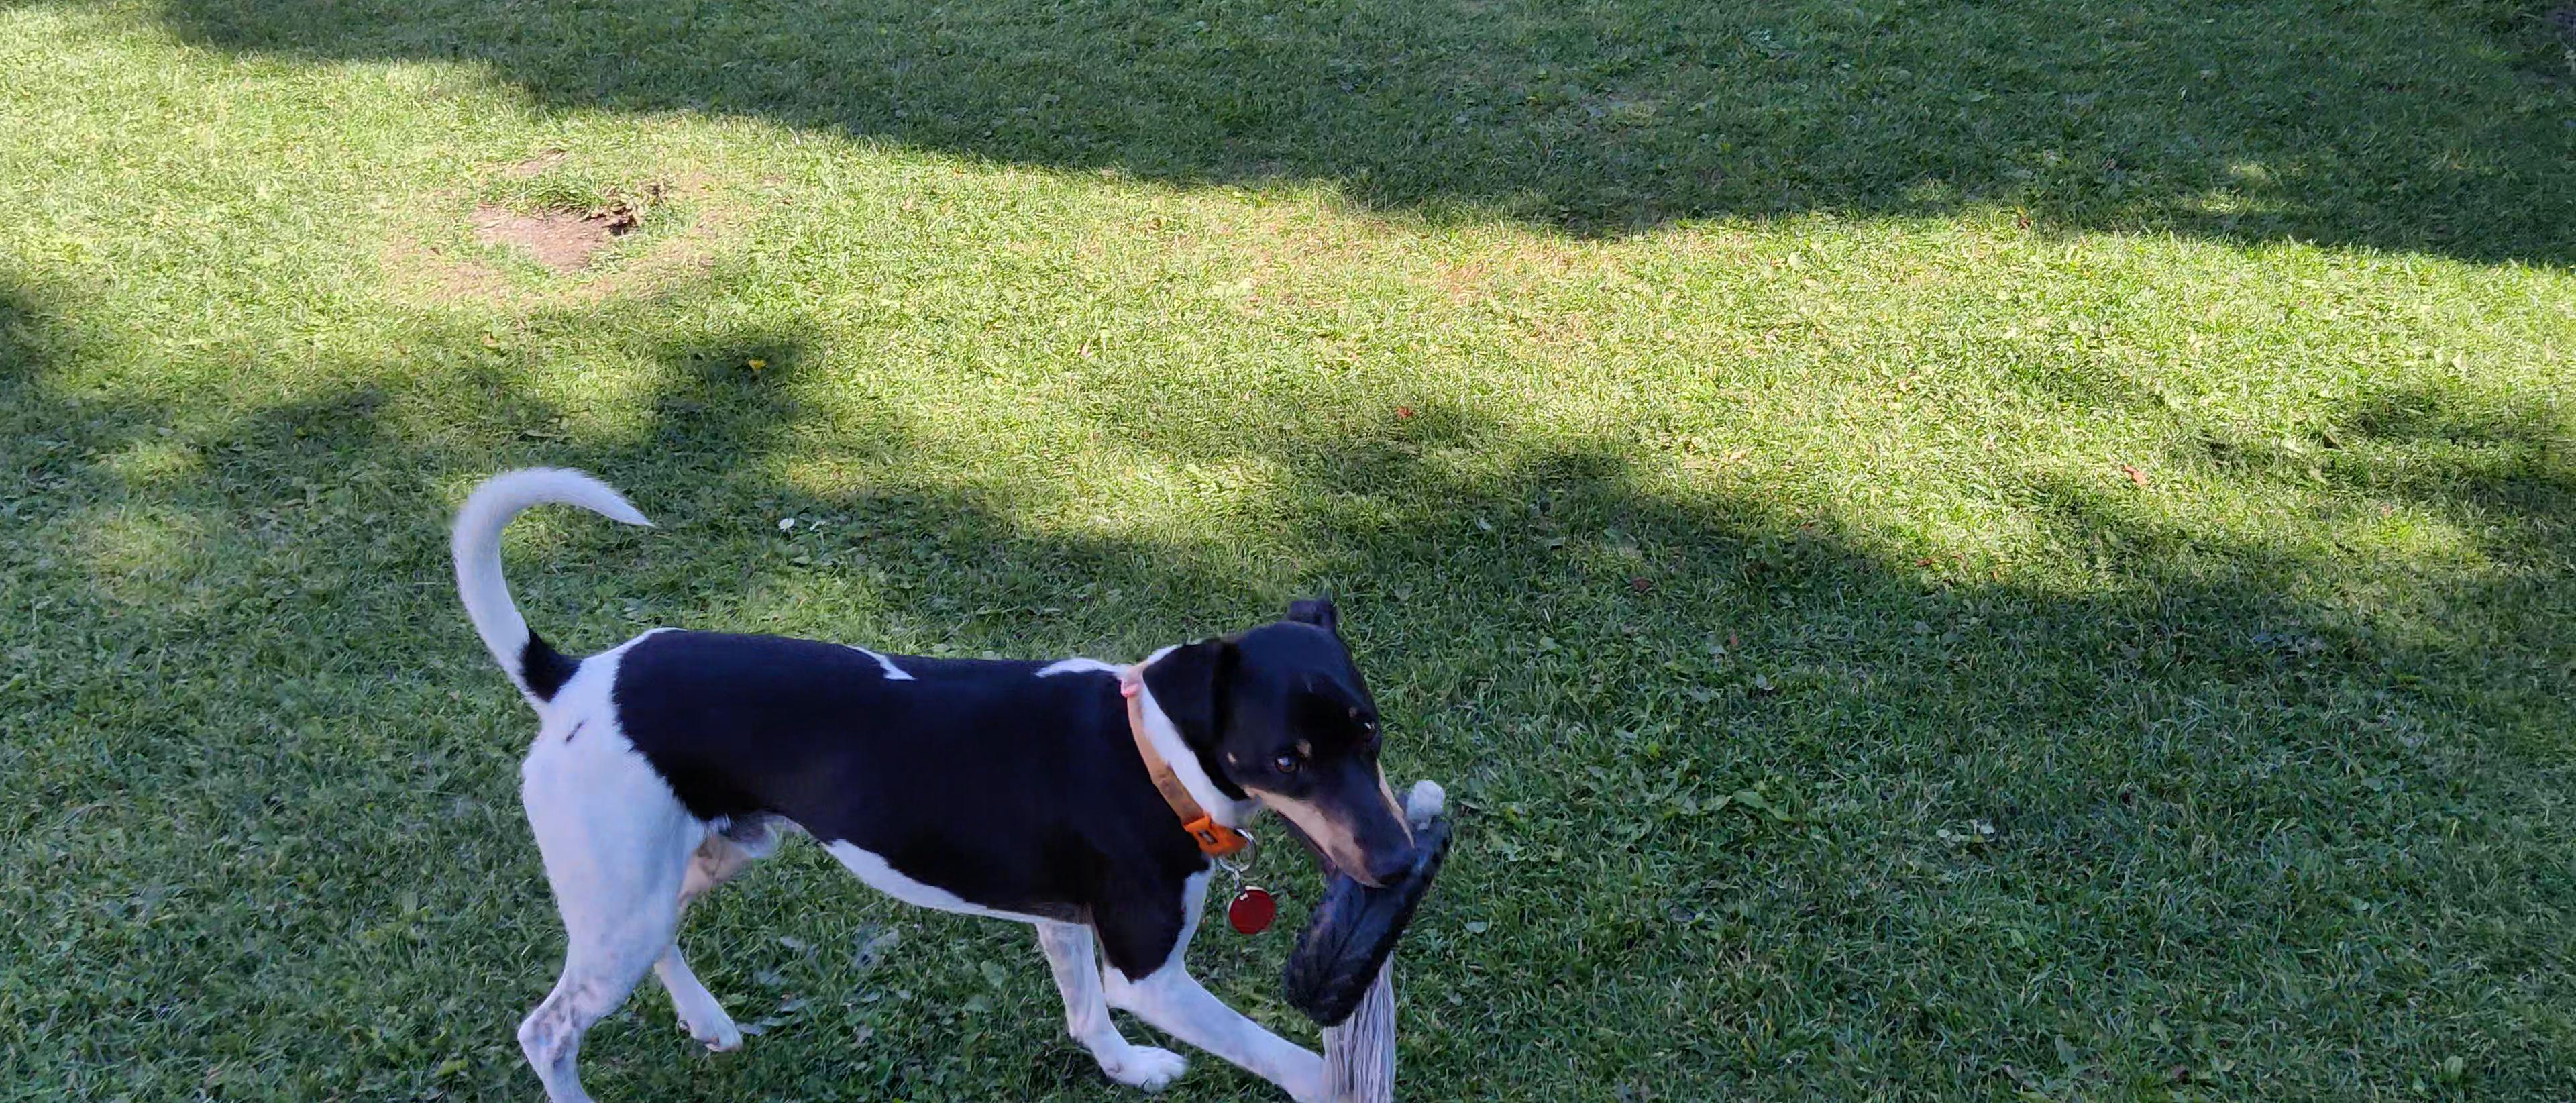Dog: (437, 452, 1419, 1103)
